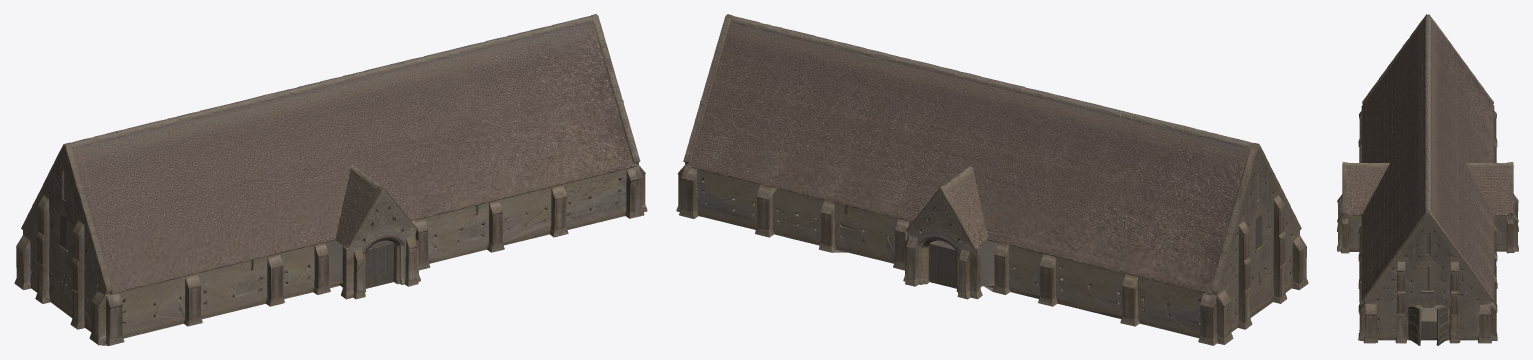
The model's file is barn_great_coxwell_a.meshy.reduced.glb.
3 renders of one model, left to right at view 1: azimuth 30°, elevation 25°; view 2: azimuth 150°, elevation 25°; view 3: azimuth 270°, elevation 25°, orthographic. The views are drawn at different scales.
Size of the model in its own units: 1.9 by 0.5503 by 0.7055.
Materials: 1 (1 with a texture image).
